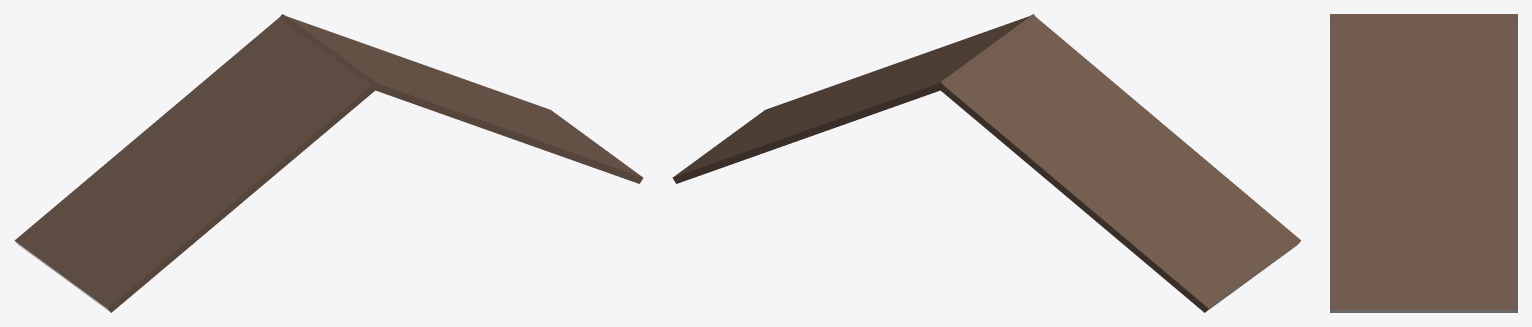
File: Roof3_C2_01.fbx
The picture shows the model from 3 angles, left to right: view 1: azimuth 30°, elevation 25°; view 2: azimuth 150°, elevation 25°; view 3: azimuth 270°, elevation 25°; orthographic projection.
Parts seen in each view (by area): view 1: Roof3_C2_01; view 2: Roof3_C2_01; view 3: Roof3_C2_01.
Boxes of the visible parts, x1,y1,x2,y2 form: Roof3_C2_01: [14, 14, 643, 312]; Roof3_C2_01: [672, 14, 1301, 312]; Roof3_C2_01: [1330, 14, 1517, 312].
Bounding box in the file's own units: 833 × 247 × 250.
